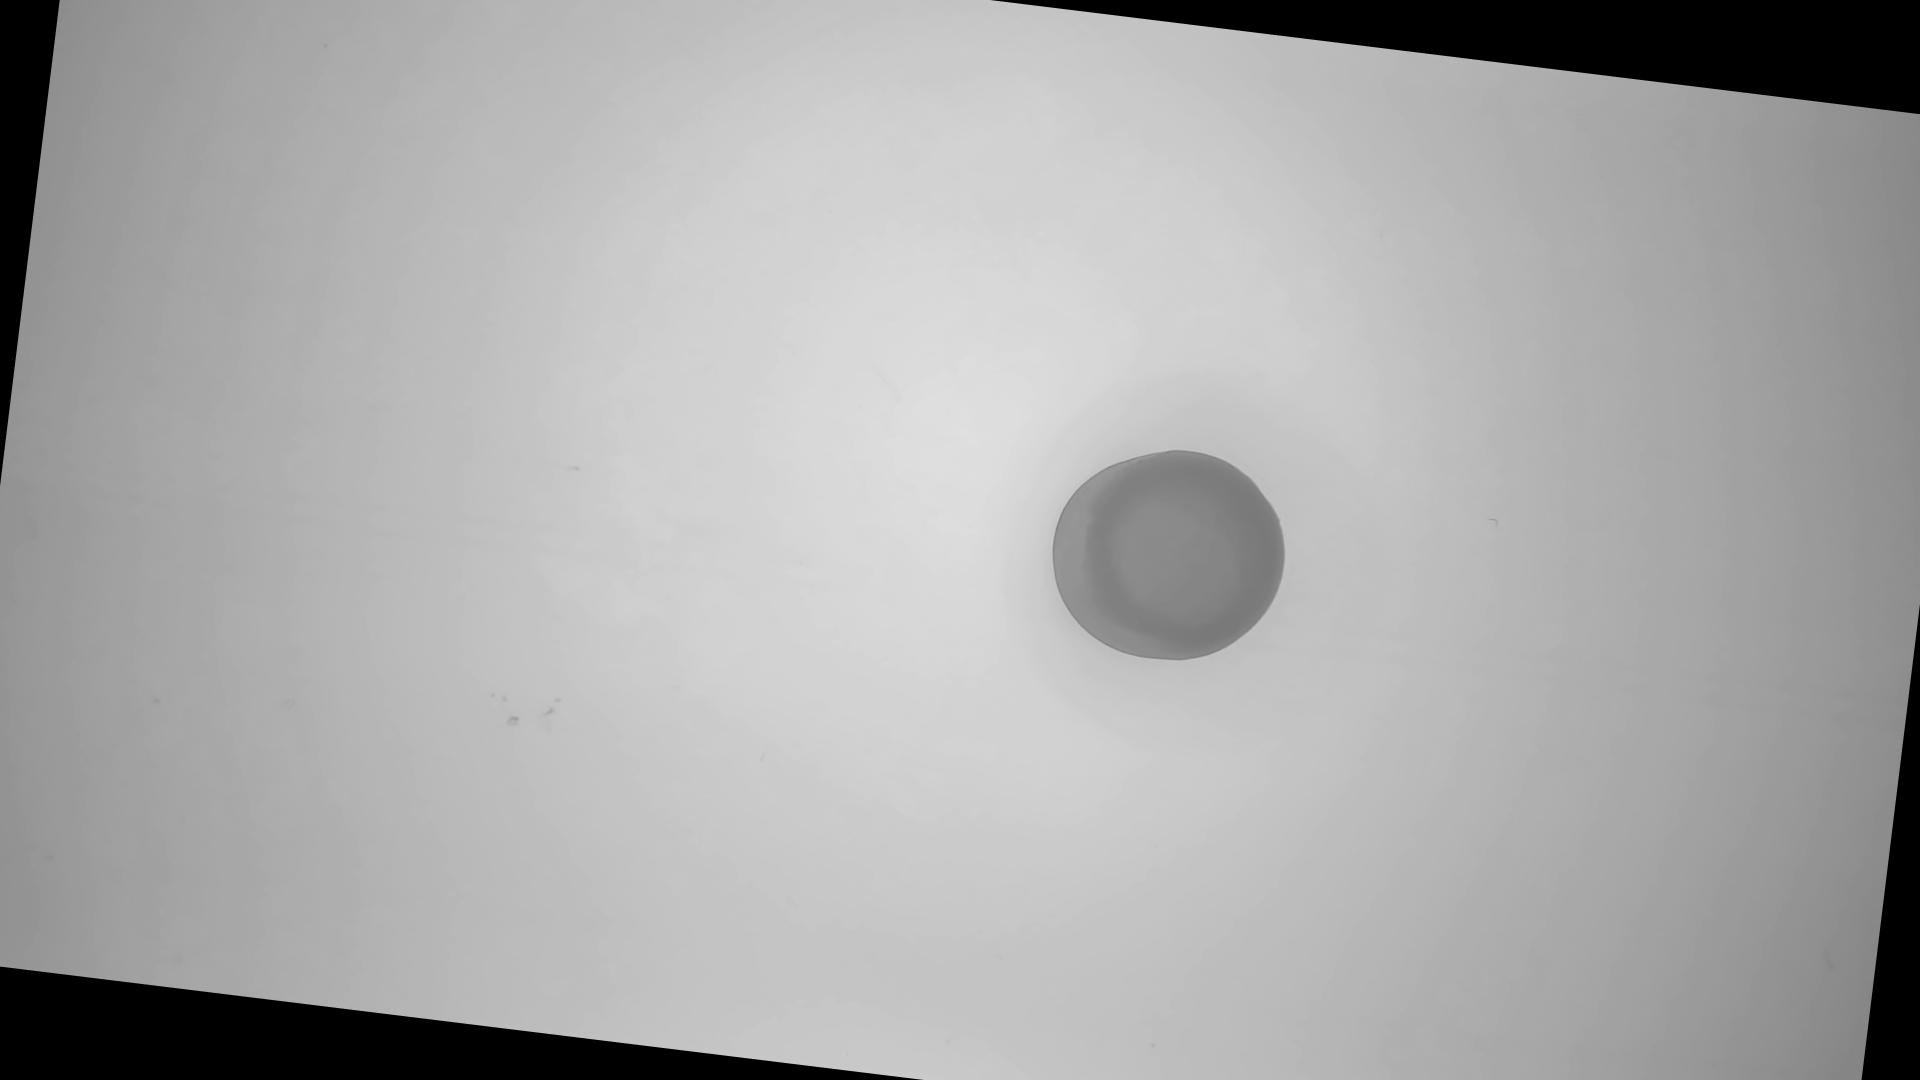normal: (1036, 433, 1300, 678)
